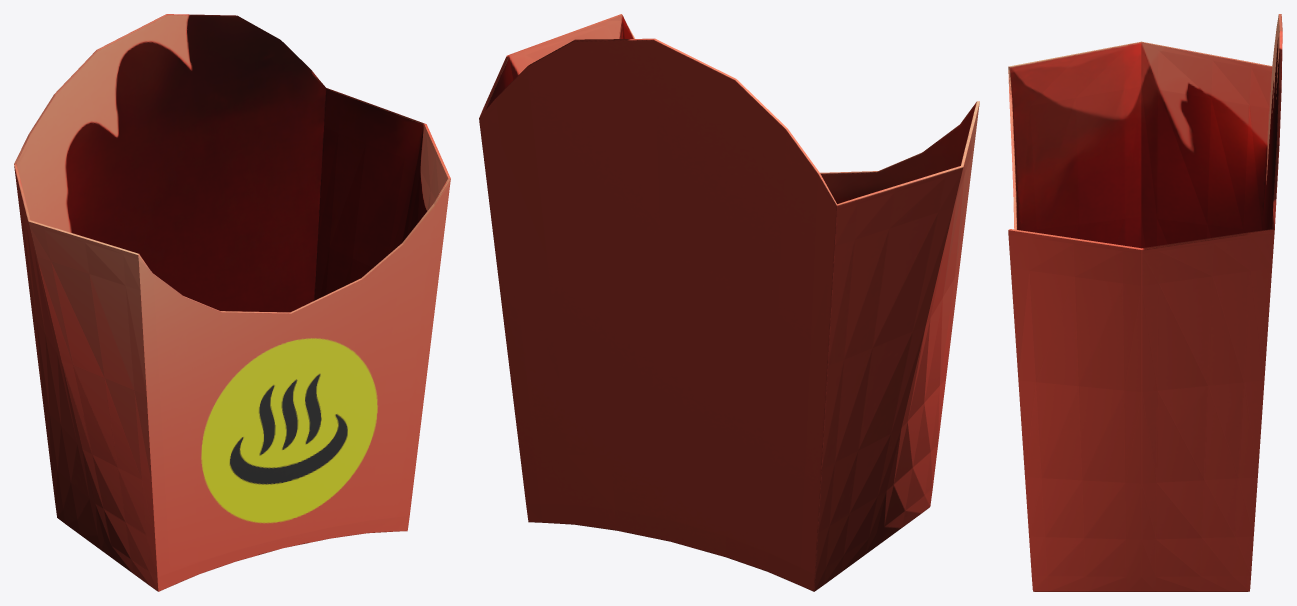
Rendered from FriesBox.gltf.
3 renders of one model, left to right at view 1: azimuth 30°, elevation 25°; view 2: azimuth 150°, elevation 25°; view 3: azimuth 270°, elevation 25°, orthographic. The views are drawn at different scales.
Visible parts, largest first — view 1: FriesPaperBox; view 2: FriesPaperBox; view 3: FriesPaperBox.
Part boxes in pixels (x1,y1,x2,y2): FriesPaperBox: (14,14,450,591); FriesPaperBox: (479,14,979,591); FriesPaperBox: (1008,14,1282,591).
Bounding box in the file's own units: 3.96 × 4.4 × 2.21.
1 material, 1 textured.
